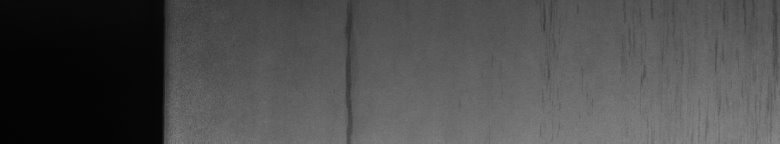hd: (342, 8, 352, 136)
